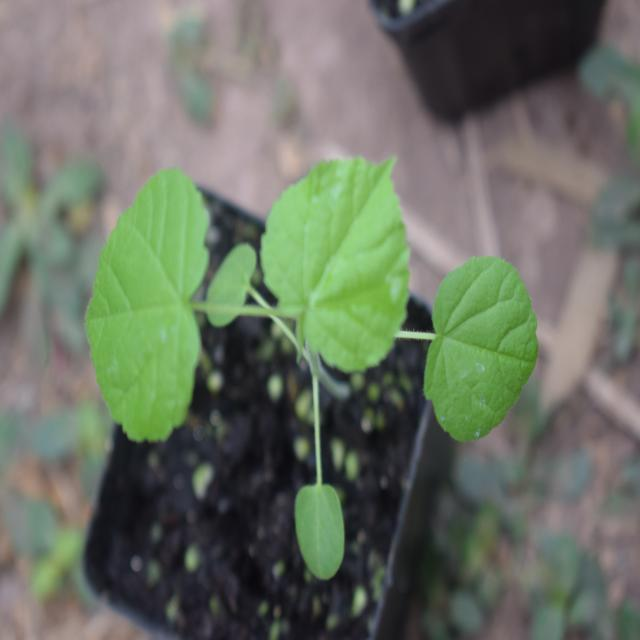abutilon theophrasti: (84, 158, 526, 474)
